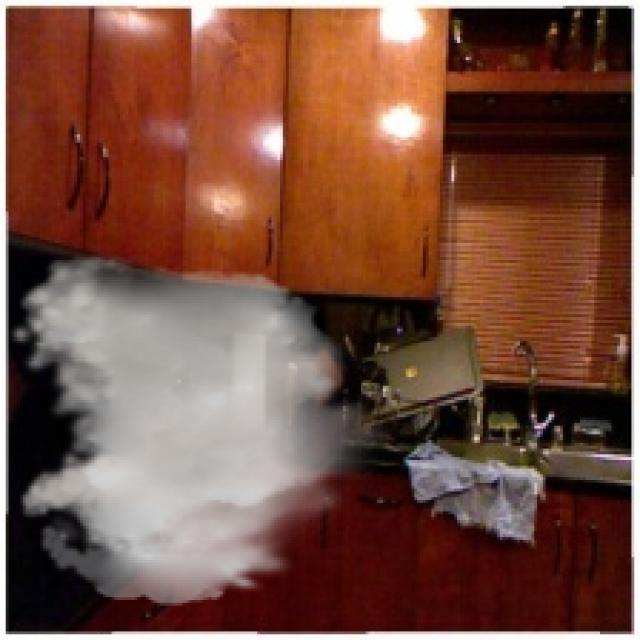smoke: (6, 254, 394, 606)
